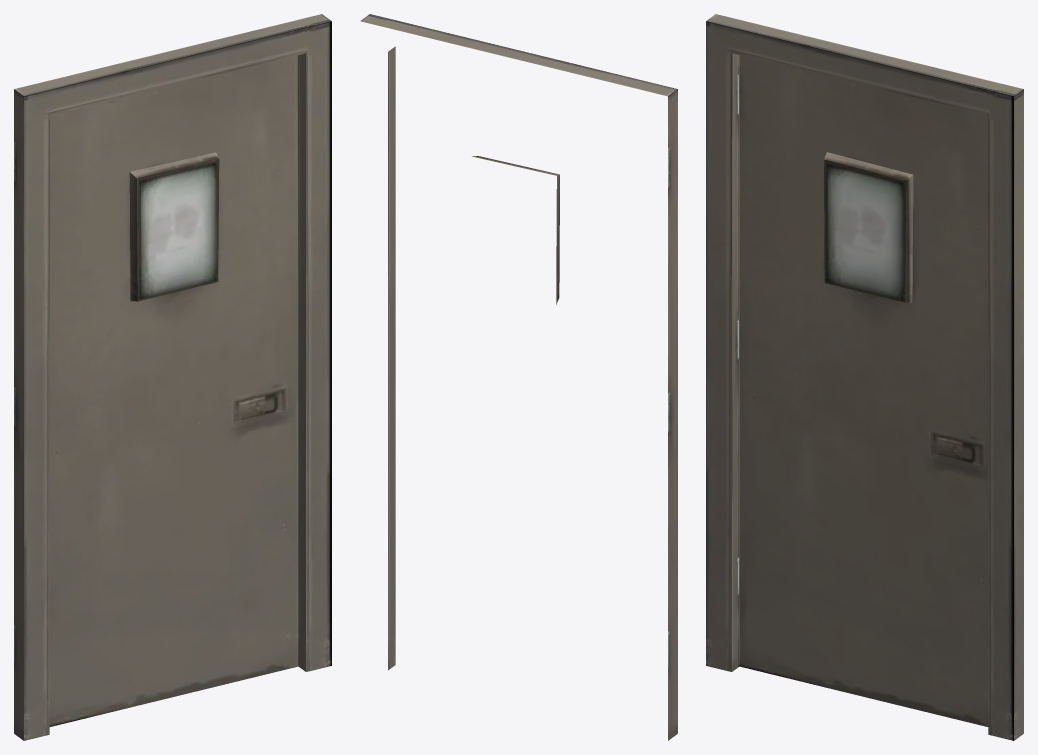
3 renders of one model, left to right at view 1: azimuth 30°, elevation 25°; view 2: azimuth 150°, elevation 25°; view 3: azimuth 330°, elevation 25°, orthographic.
Visible parts, largest first — view 1: body0_model0_lod0_mesh0; view 2: body0_model0_lod0_mesh0; view 3: body0_model0_lod0_mesh0.
Part boxes in pixels (x1=…): body0_model0_lod0_mesh0: x1=14, y1=14, x2=331, y2=740; body0_model0_lod0_mesh0: x1=360, y1=14, x2=677, y2=740; body0_model0_lod0_mesh0: x1=706, y1=14, x2=1023, y2=740.
Size of the model in its own units: 56.01 by 112 by 3.13.
1 material, 1 textured.
